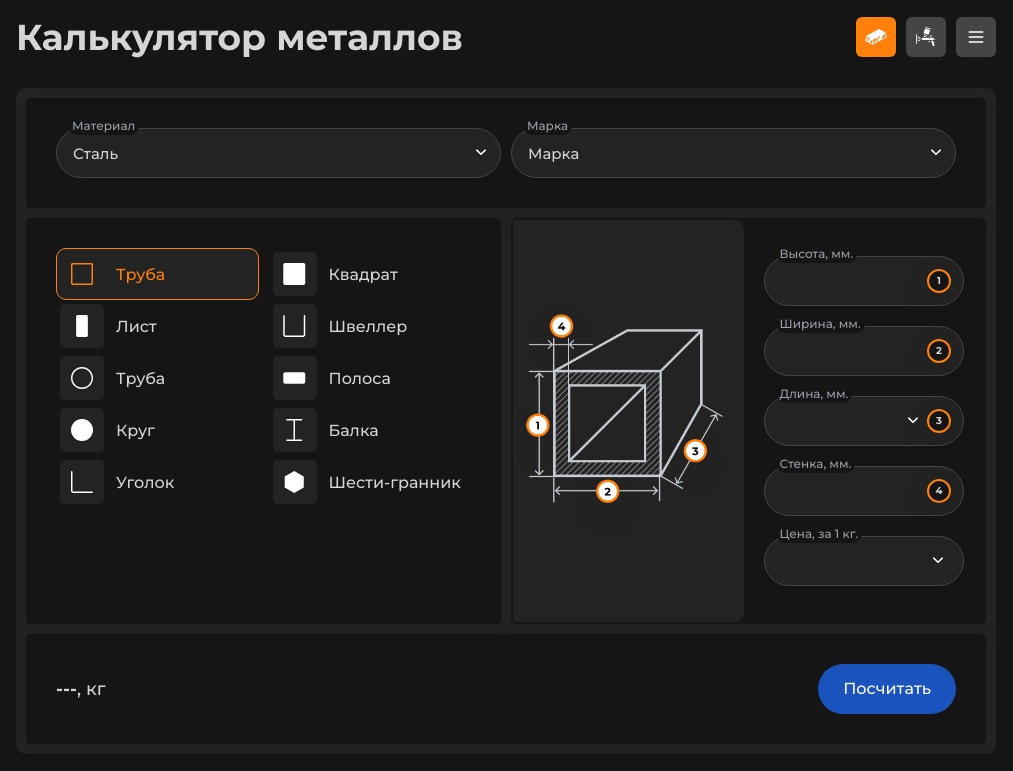
Test case: App common test › Nav test
Check: the heading "Калькулятор металлов" is shown, box [16,16,463,58]
Check: the text "Калькулятор окраски" is not shown
Click the link with test id "calc-paint".
click(926, 37)  # box [906,17,946,57]
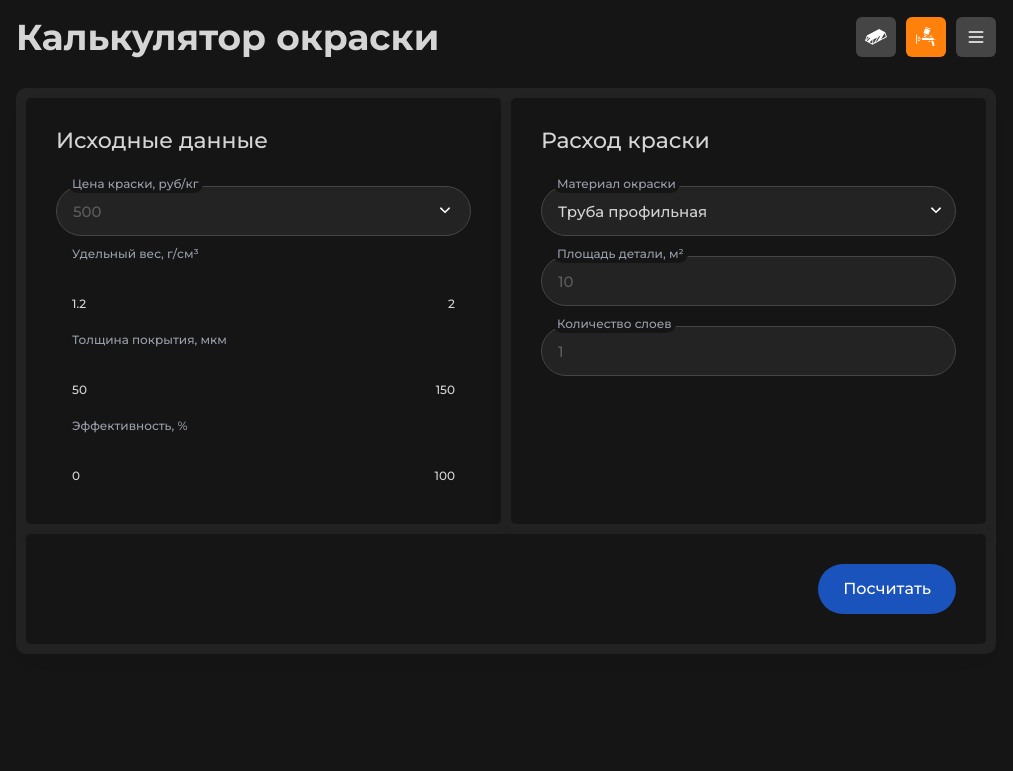
Check: the heading "Калькулятор металлов" is gone
Check: the heading "Калькулятор окраски" is shown, box [16,16,439,58]
